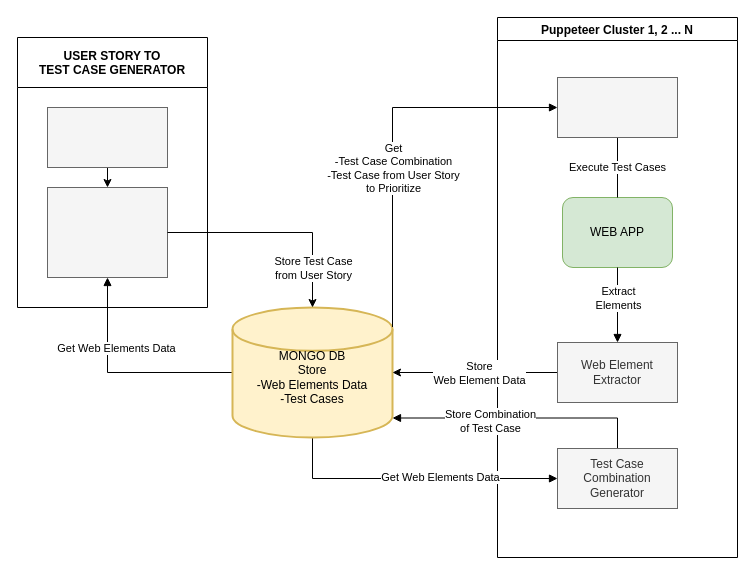
Image size: 755x575. Some labels were removed from this diagram. The centre of each missing label's shape, as x and y in pixels:
Semantic Similarity ( Tensor Flow Universal Sentence Encoder Trained Model): (107,232)
Test Scenario Executor: (617,107)
User Story: (107,137)
